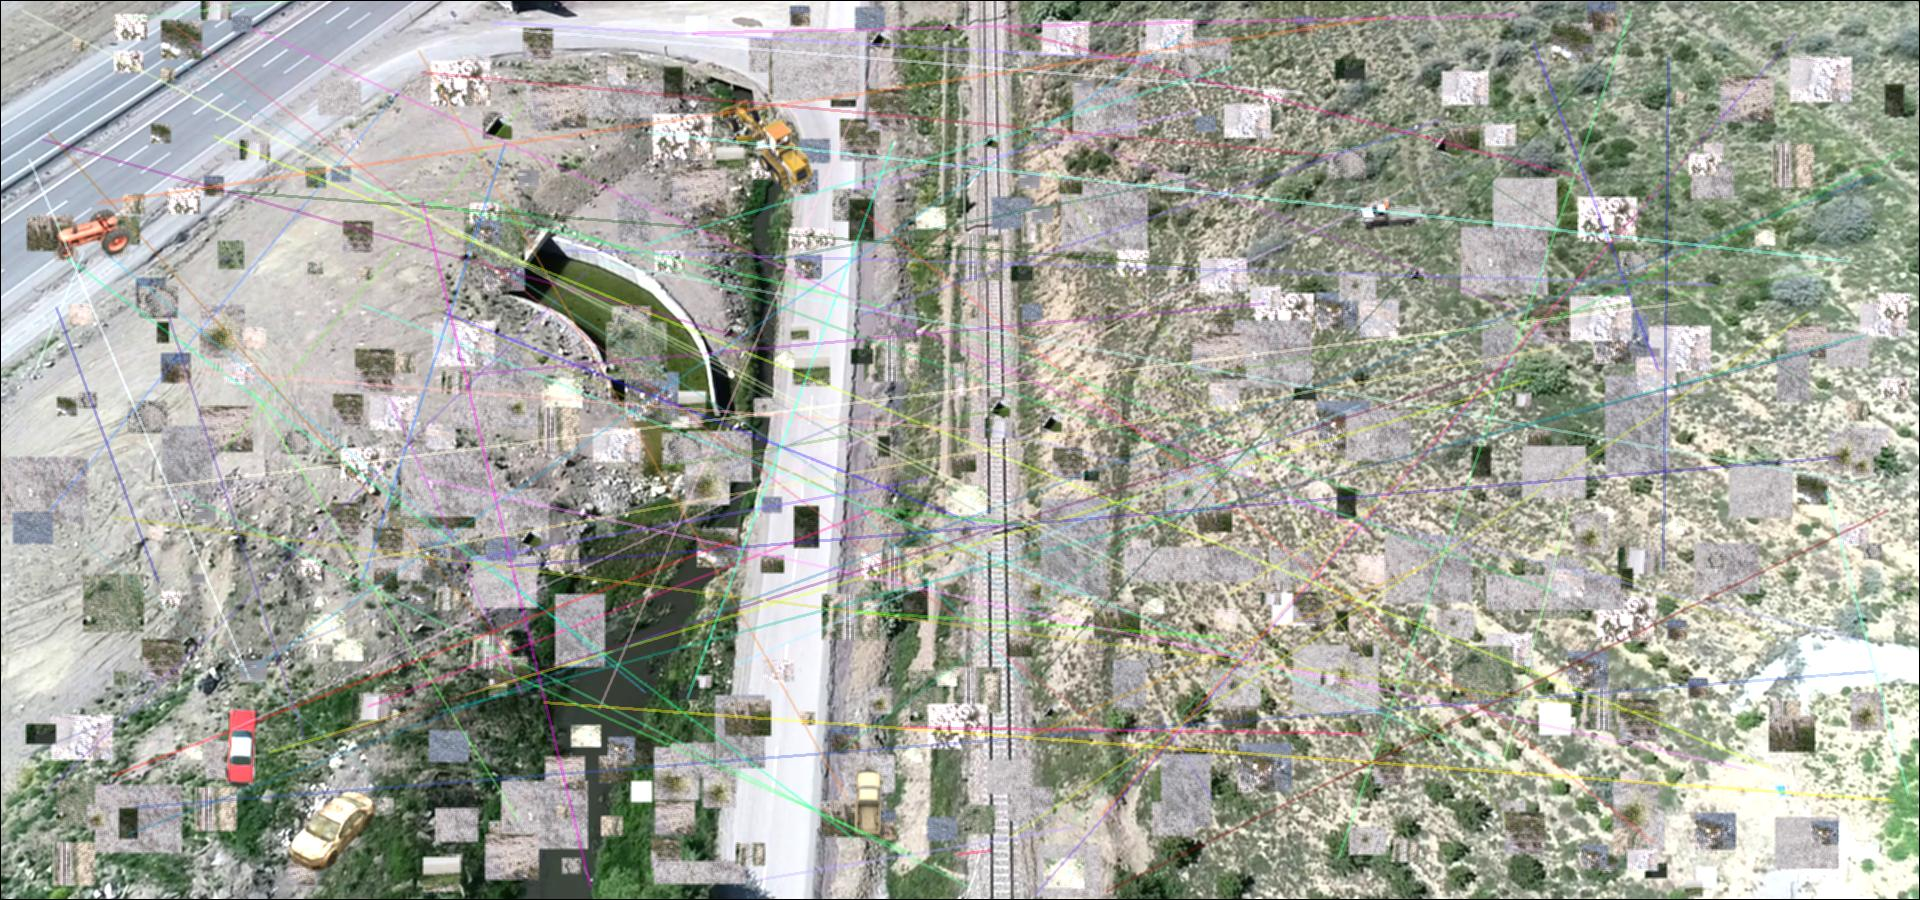arac: (718, 98, 814, 193), (288, 790, 384, 876), (53, 209, 133, 261), (225, 709, 260, 789), (852, 769, 884, 838), (1360, 200, 1422, 230)
